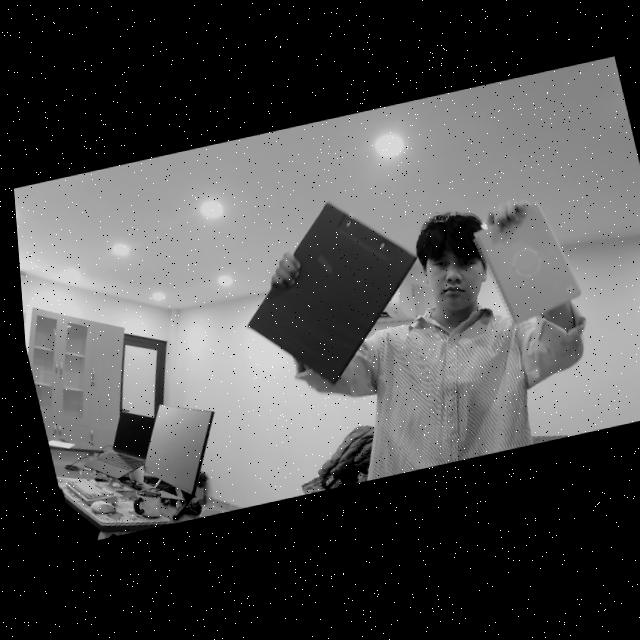document: (474, 200, 583, 325)
face: (416, 235, 494, 323)
